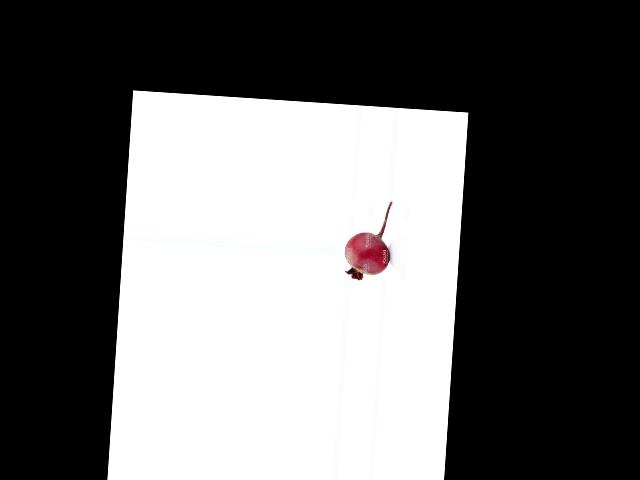beet: (343, 199, 393, 282)
